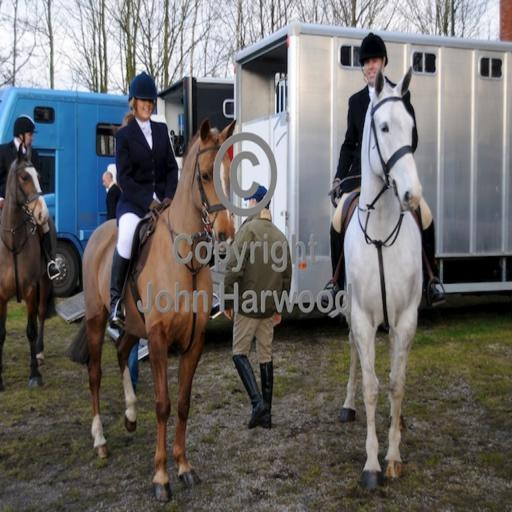horse: (64, 115, 238, 504), (338, 63, 424, 496), (0, 142, 58, 390)
